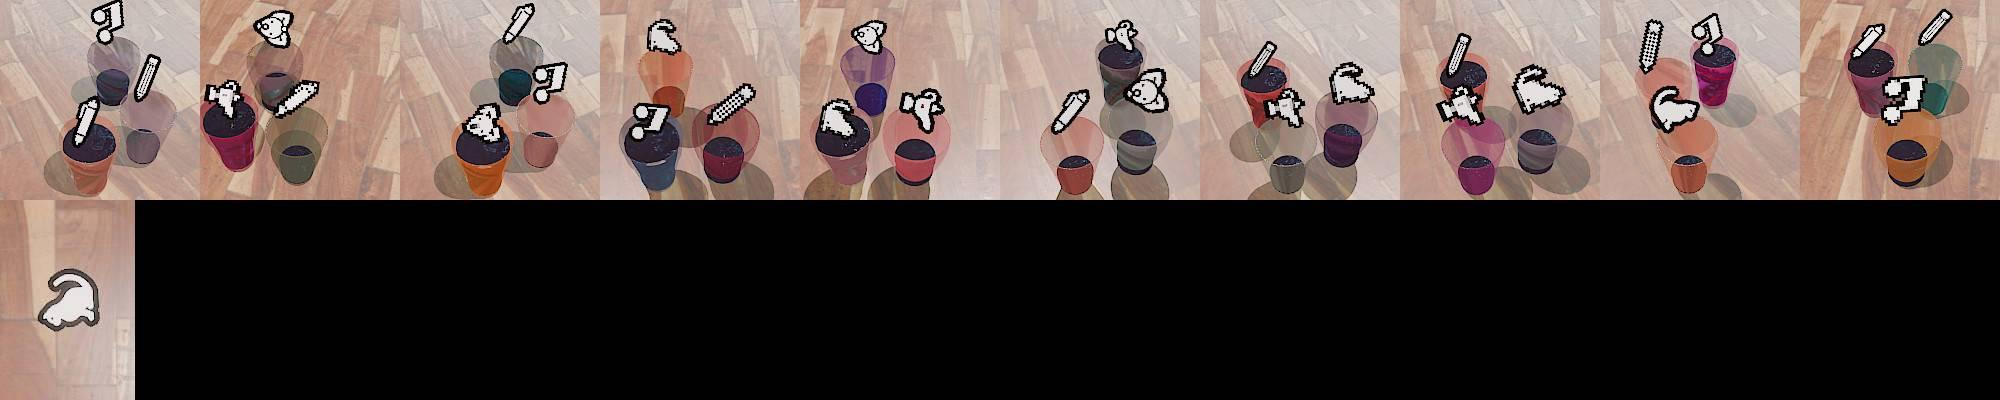icon: (36, 266, 103, 332), (1511, 64, 1568, 116), (1649, 83, 1700, 134), (1880, 74, 1929, 124), (269, 76, 320, 121), (899, 87, 946, 134), (1124, 68, 1171, 115), (707, 82, 756, 126), (1328, 60, 1375, 106), (1051, 87, 1092, 136), (1436, 84, 1483, 125), (1264, 85, 1307, 129), (463, 101, 506, 143), (204, 78, 246, 120), (254, 9, 295, 48), (630, 102, 672, 140), (531, 60, 568, 103), (70, 96, 101, 148), (91, 0, 126, 45), (819, 98, 860, 136), (501, 1, 537, 45), (1690, 11, 1723, 57), (134, 52, 162, 104), (1851, 20, 1888, 59), (1102, 18, 1142, 54), (1917, 9, 1953, 48), (1639, 18, 1663, 75), (1444, 32, 1472, 79), (1246, 41, 1278, 82), (851, 19, 886, 55), (647, 19, 681, 55)
